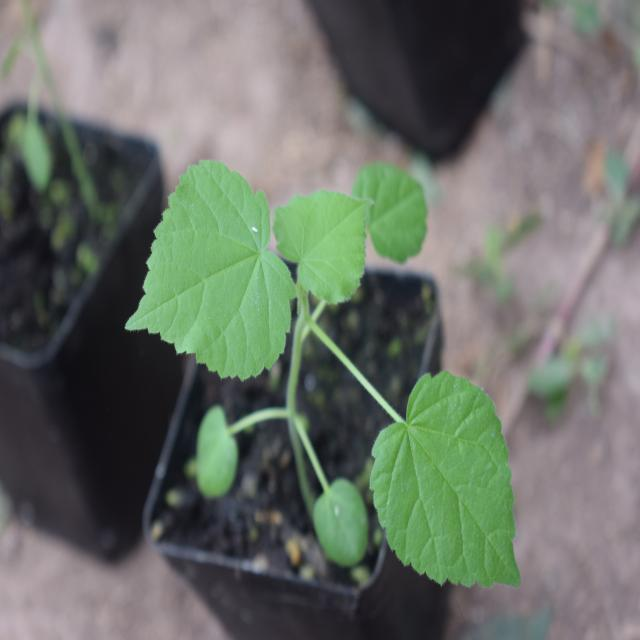abutilon theophrasti: (127, 148, 525, 576)
